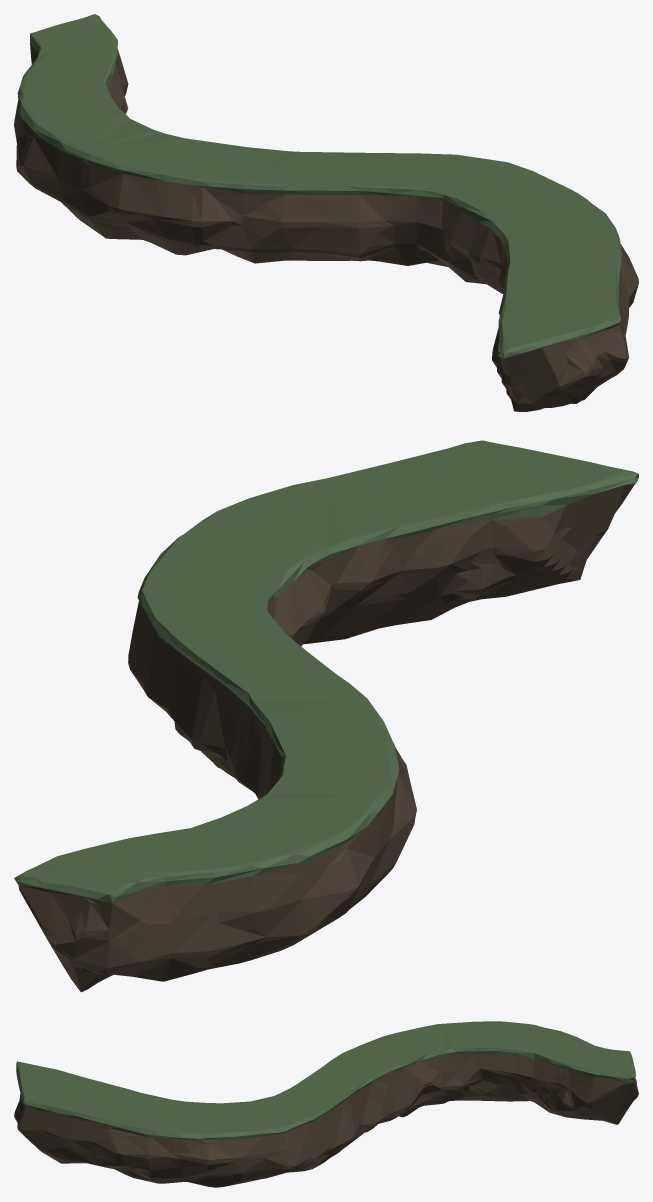
The model's file is WormIsland.fbx.
3 renders of one model, top to bottom at view 1: azimuth 30°, elevation 25°; view 2: azimuth 150°, elevation 25°; view 3: azimuth 270°, elevation 25°, orthographic. The views are drawn at different scales.
Visible parts, largest first — view 1: polySurface1; view 2: polySurface1; view 3: polySurface1.
Boxes of the visible parts, x1,y1,x2,y2 form: polySurface1: [14, 14, 638, 411]; polySurface1: [14, 440, 638, 992]; polySurface1: [14, 1021, 638, 1187].
Bounding box in the file's own units: 18.37 × 4.53 × 39.5.
